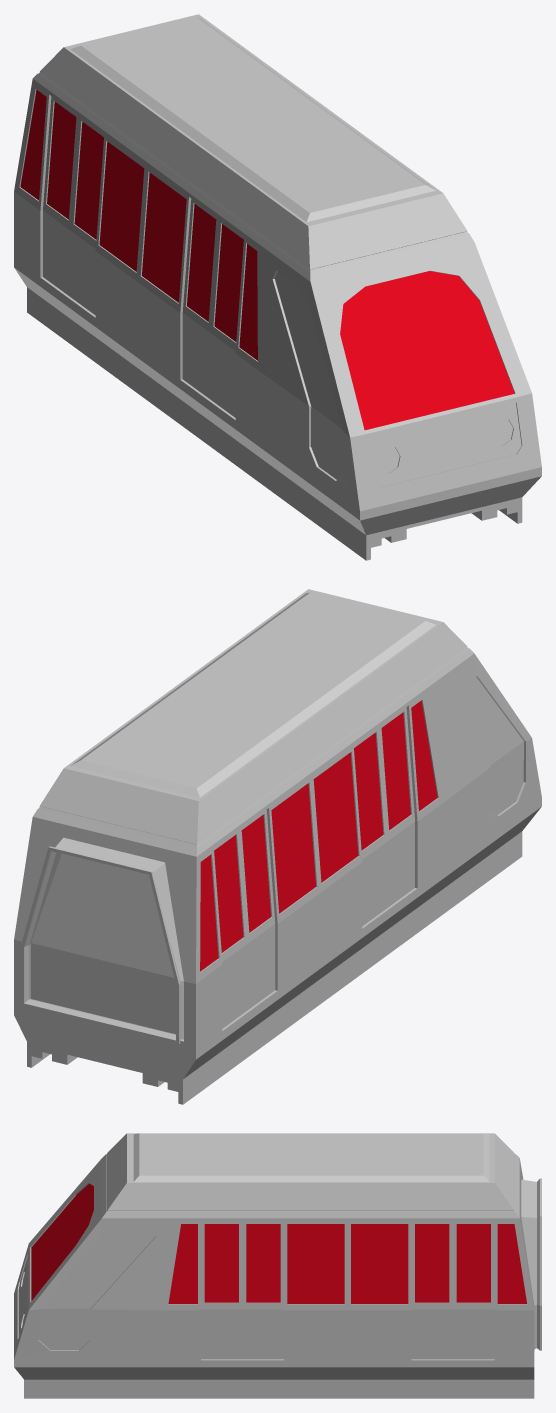
Rendered from SM_monorail_01.gltf.
3 renders of one model, top to bottom at view 1: azimuth 30°, elevation 25°; view 2: azimuth 150°, elevation 25°; view 3: azimuth 270°, elevation 25°, orthographic. The views are drawn at different scales.
Visible parts, largest first — view 1: monorail_01; view 2: monorail_01; view 3: monorail_01.
Part boxes in pixels (box(x1,y1,x2,y2)): monorail_01: box(14, 14, 541, 560); monorail_01: box(14, 589, 541, 1104); monorail_01: box(14, 1133, 541, 1398).
Bounding box in the file's own units: 1.64 × 2.45 × 5.45.
